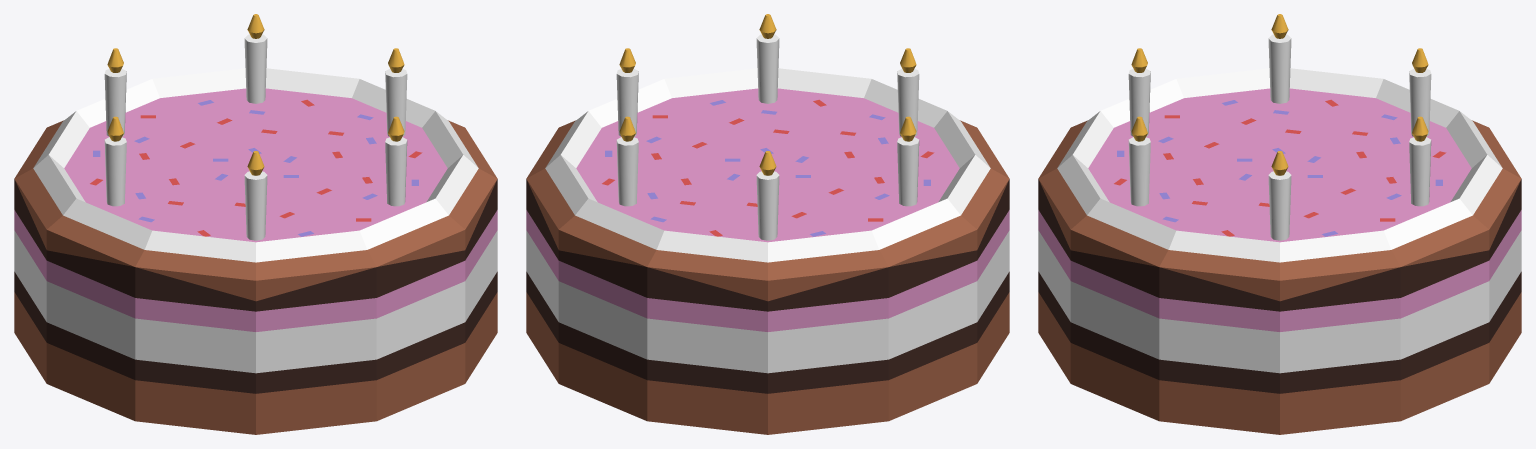
File: cakeBirthday.dae
The picture shows the model from 3 angles, left to right: view 1: azimuth 30°, elevation 25°; view 2: azimuth 150°, elevation 25°; view 3: azimuth 270°, elevation 25°; orthographic projection.
Visible parts, largest first — view 1: slice (×6); view 2: slice (×6); view 3: slice (×6).
Part boxes in pixels (x1,y1,x2,y2): slice (×6): (14,14,497,434); slice (×6): (526,14,1009,434); slice (×6): (1038,14,1521,434).
Size of the model in its own units: 0.6392 by 0.3638 by 0.6392.
